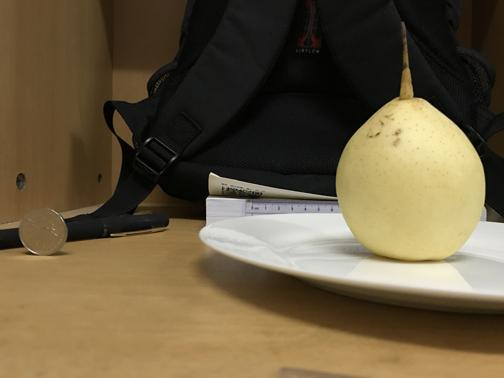coin: (16, 208, 68, 255)
pear: (330, 97, 486, 259)
